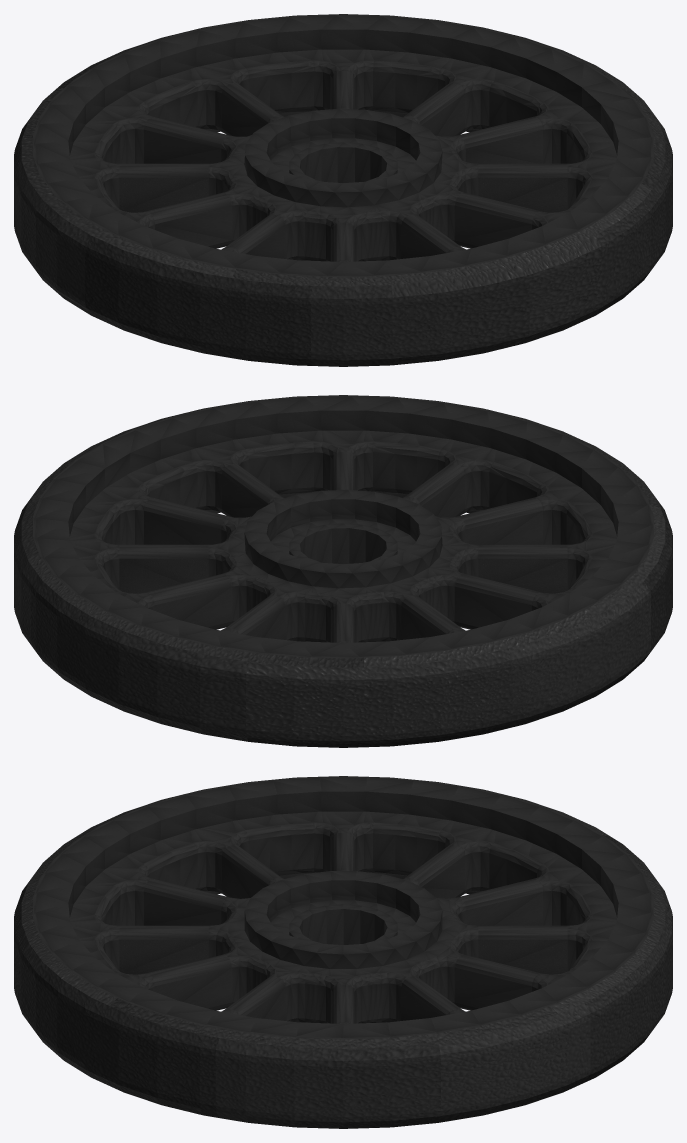
The model's file is wheel_tex.dae.
3 renders of one model, top to bottom at view 1: azimuth 30°, elevation 25°; view 2: azimuth 150°, elevation 25°; view 3: azimuth 270°, elevation 25°, orthographic.
Visible parts, largest first — view 1: Simple_rad_0012; view 2: Simple_rad_0012; view 3: Simple_rad_0012.
Part boxes in pixels (left/top/right/bottom): Simple_rad_0012: left=14, top=14, right=672, bottom=366; Simple_rad_0012: left=14, top=395, right=672, bottom=747; Simple_rad_0012: left=14, top=776, right=672, bottom=1128.
Size of the model in its own units: 0.06 by 0.0598 by 0.009.
Materials: 1 (1 with a texture image).
